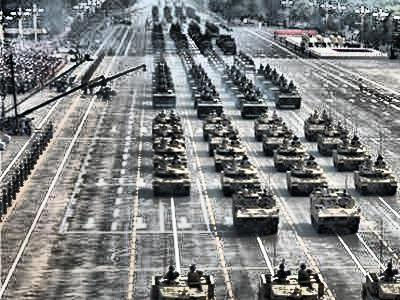tanks: (204, 115, 248, 173), (312, 189, 362, 235), (234, 190, 279, 235), (260, 270, 327, 300), (306, 112, 348, 157), (152, 274, 217, 300), (356, 156, 398, 196), (287, 156, 328, 196), (223, 157, 260, 196), (334, 137, 371, 173), (156, 165, 192, 198), (364, 270, 400, 300)
